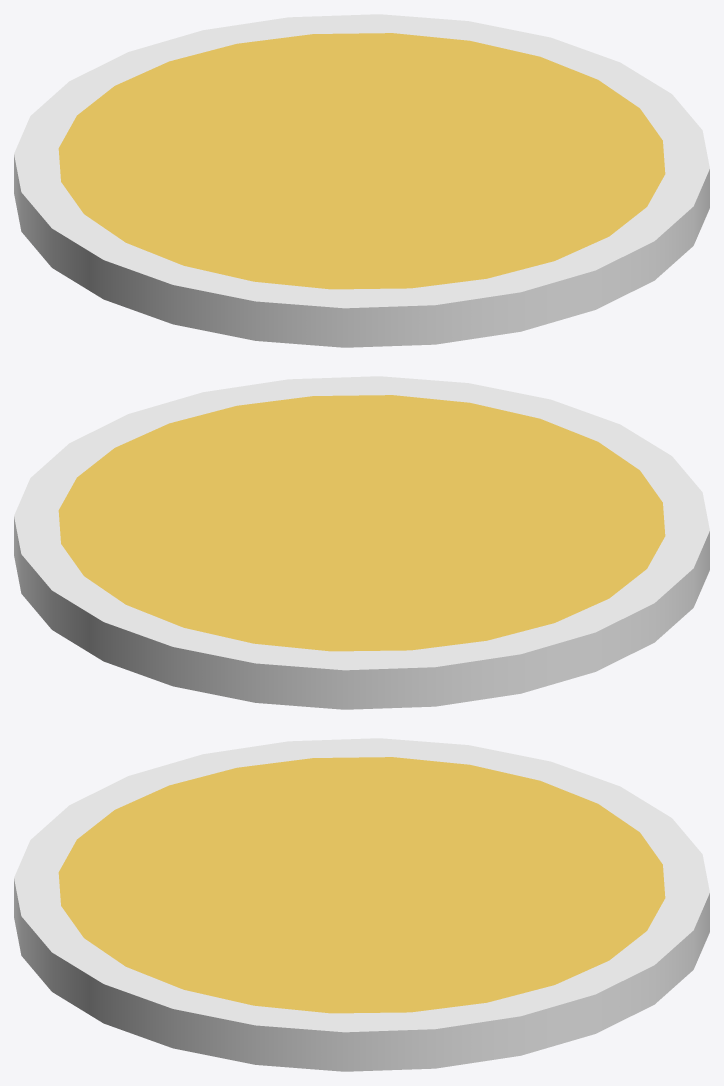
File: Stand.fbx
3 renders of one model, top to bottom at view 1: azimuth 30°, elevation 25°; view 2: azimuth 150°, elevation 25°; view 3: azimuth 270°, elevation 25°, orthographic.
Parts seen in each view (by area): view 1: Layer0_001; view 2: Layer0_001; view 3: Layer0_001.
Part boxes in pixels (box(x1,y1,x2,y2)): Layer0_001: box(14, 14, 709, 347); Layer0_001: box(14, 376, 709, 709); Layer0_001: box(14, 738, 709, 1071).
Size of the model in its own units: 6.29 by 0.3937 by 6.29.
